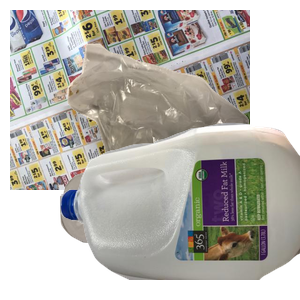glass: (58, 170, 202, 300)
paper: (10, 10, 250, 190)
plastic: (60, 120, 300, 300)
trash: (65, 41, 300, 221)
